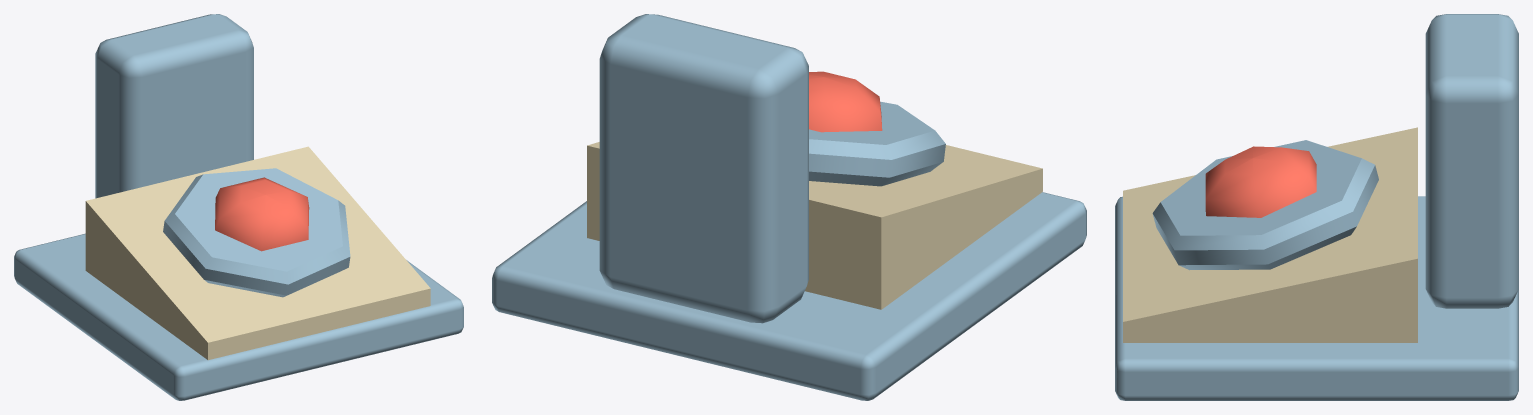
The model's file is R4X_ExplosiveTrapDeployer.fbx.
3 views of the same model, side by side, from view 1: azimuth 30°, elevation 25°; view 2: azimuth 150°, elevation 25°; view 3: azimuth 270°, elevation 25° (orthographic). The views are drawn at different scales.
Parts seen in each view (by area): view 1: R4X_ExplosiveTrapDeployer_Body, R4X_ExplosiveTrapDeployer_Payload; view 2: R4X_ExplosiveTrapDeployer_Body, R4X_ExplosiveTrapDeployer_Payload; view 3: R4X_ExplosiveTrapDeployer_Body, R4X_ExplosiveTrapDeployer_Payload.
Boxes of the visible parts, x1,y1,x2,y2 form: R4X_ExplosiveTrapDeployer_Body: [14, 14, 463, 400]; R4X_ExplosiveTrapDeployer_Payload: [163, 168, 350, 297]; R4X_ExplosiveTrapDeployer_Body: [492, 14, 1086, 400]; R4X_ExplosiveTrapDeployer_Payload: [809, 71, 945, 186]; R4X_ExplosiveTrapDeployer_Body: [1115, 14, 1518, 400]; R4X_ExplosiveTrapDeployer_Payload: [1152, 140, 1378, 270].
Bounding box in the file's own units: 0.52 × 0.39 × 0.52.
